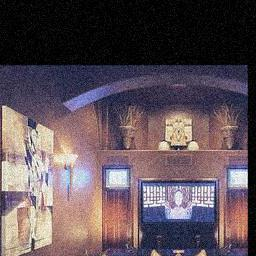Electrodomestico: (139, 176, 219, 243)
Puerta: (101, 165, 133, 247), (225, 165, 246, 246)
